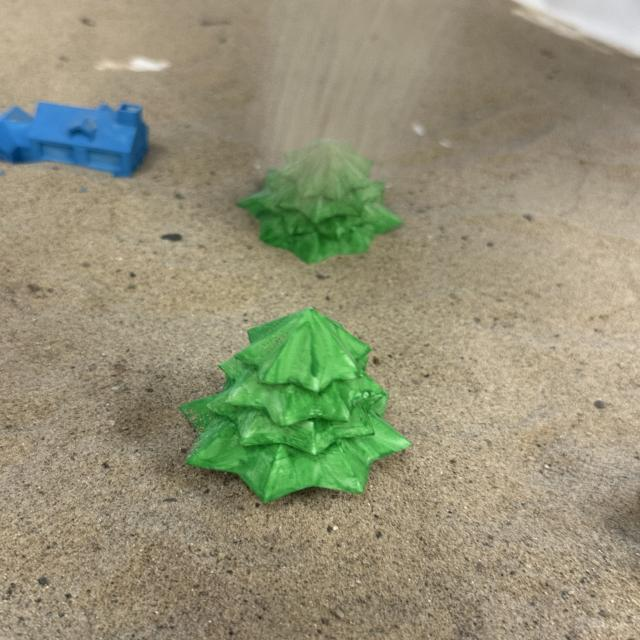house: (0, 100, 152, 180)
tree: (176, 306, 412, 503), (234, 138, 403, 264)
